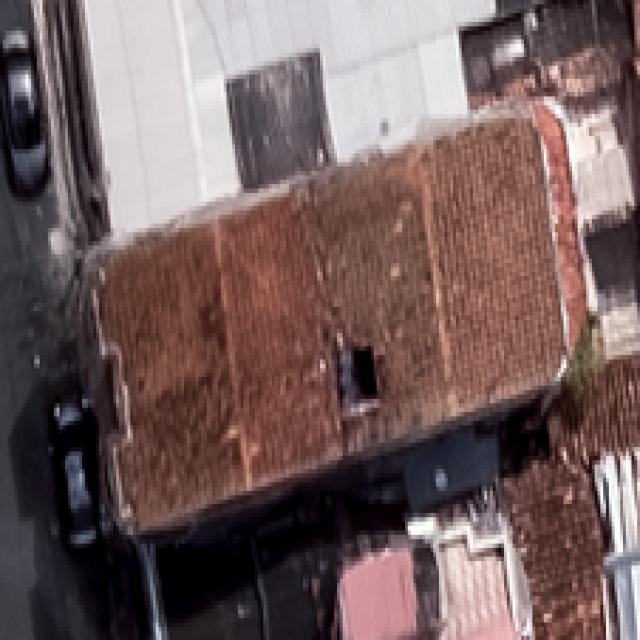Batiment: (84, 103, 586, 535), (501, 356, 640, 640)
